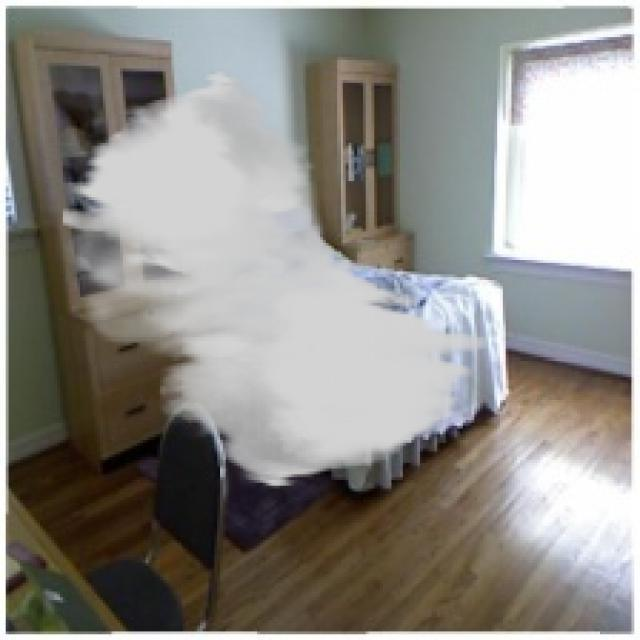Smoke: (60, 69, 486, 488)
